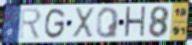8: (147, 5, 170, 40)
G: (43, 7, 67, 40)
H: (123, 5, 147, 40)
Q: (96, 6, 121, 39)
R: (18, 8, 43, 41)
X: (71, 6, 96, 40)
